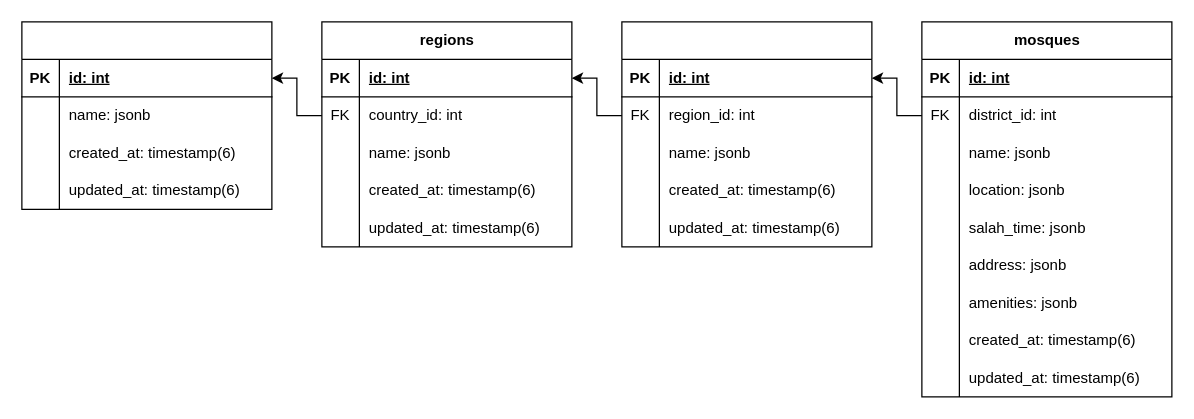
The diagram is 1194 pixels wide and 419 high, and some of its shapes have lost their labels. The shapes that lost their labels are listed below. From the top down, each one's box as (x1, y1, x2, y2) in pixels, then its label:
(21, 21, 272, 209): countries
(621, 21, 872, 247): districts
